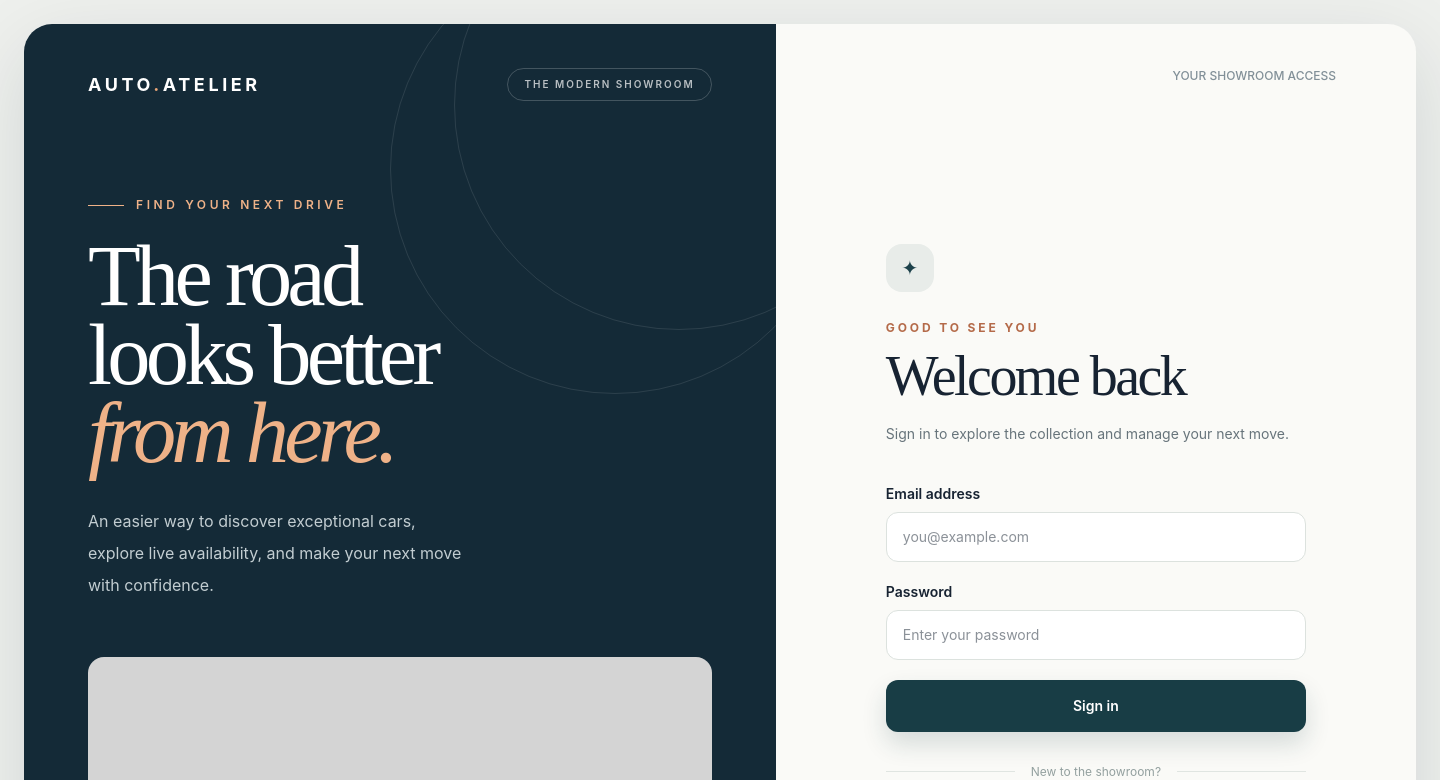
it: authentication API › signs in and opens the inventory
In the field labelled "Email address": coordinates (1096, 537) 886,512 -> 1306,562, type "driver@example.com"
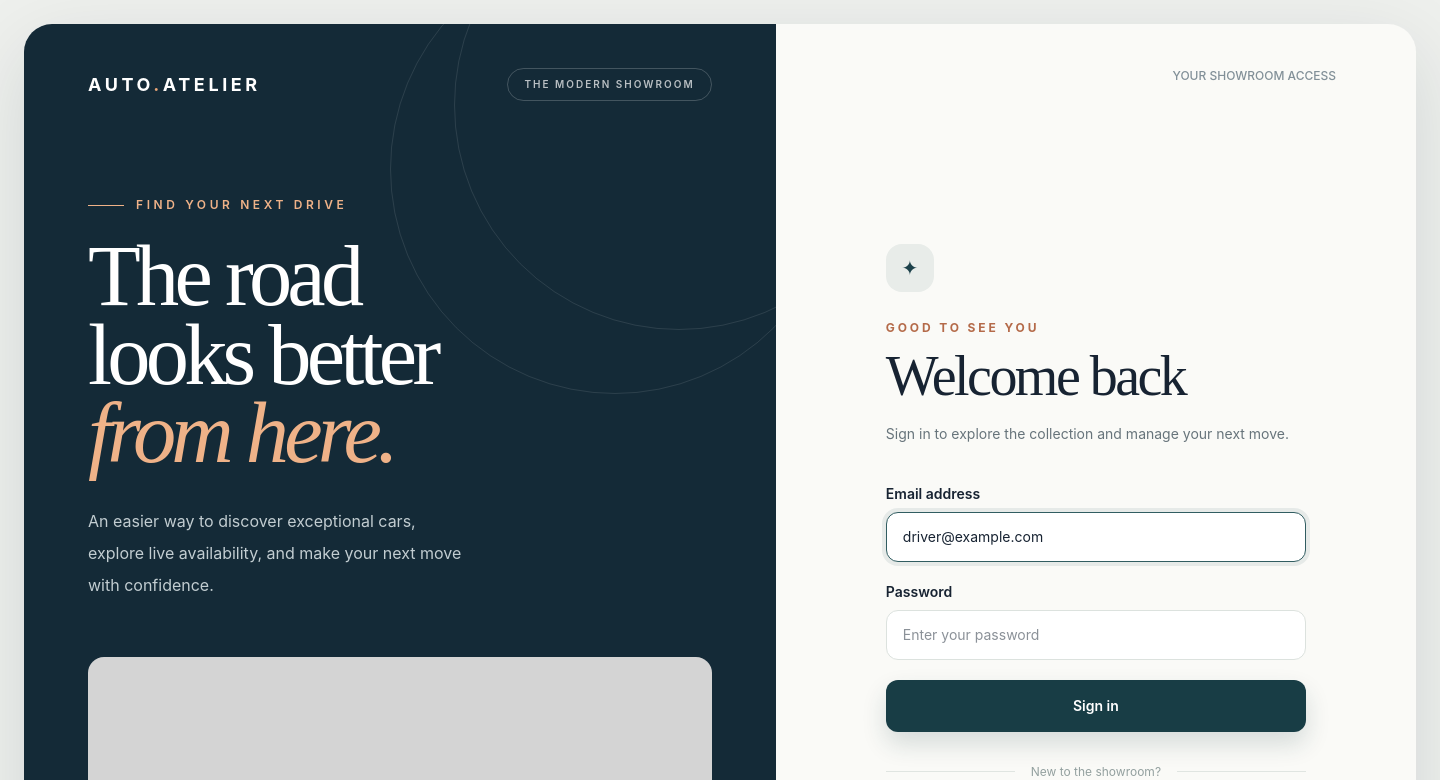
In the password field labelled "Password": coordinates (1096, 635) 886,610 -> 1306,660, type "SecurePass123!"
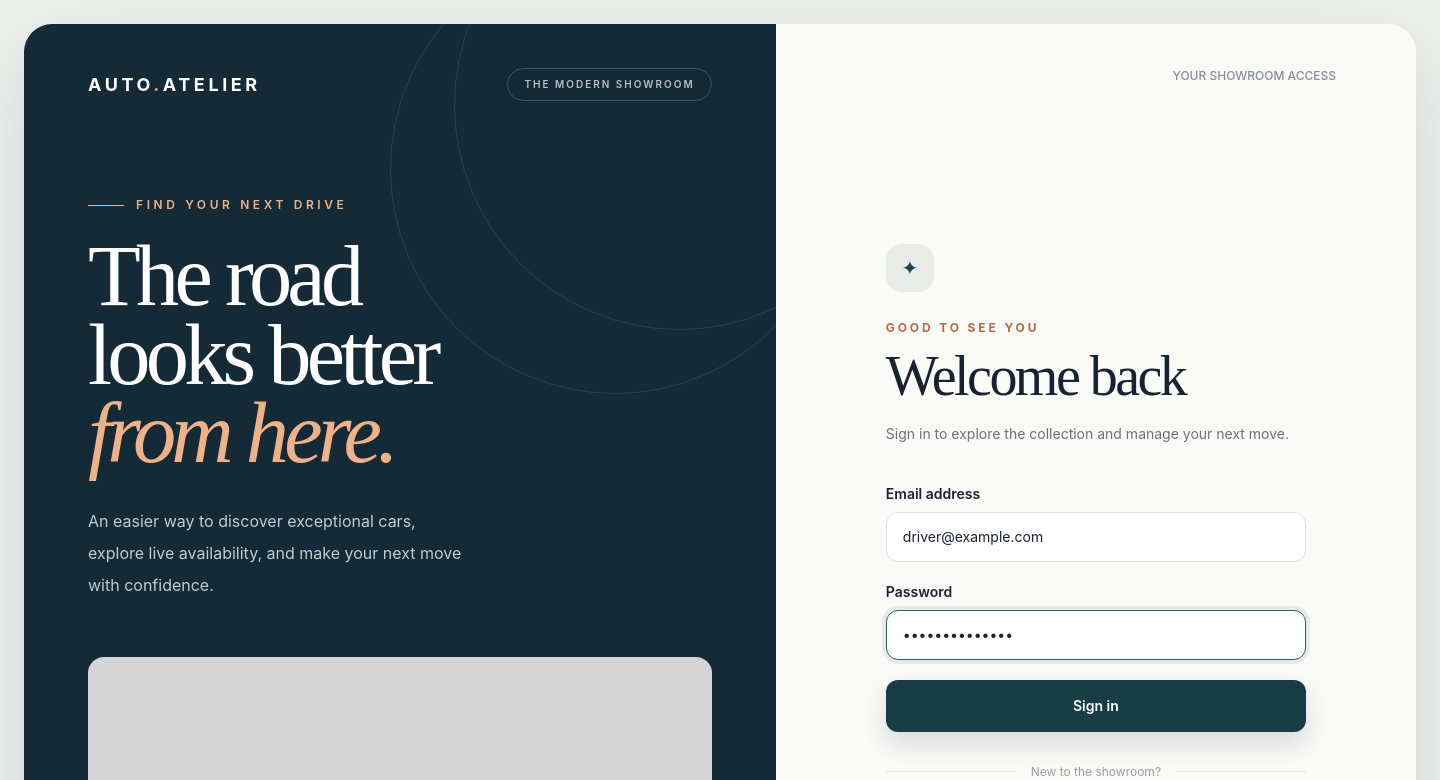
Click the button "Sign in": coordinates (1096, 706) 886,680 -> 1306,732
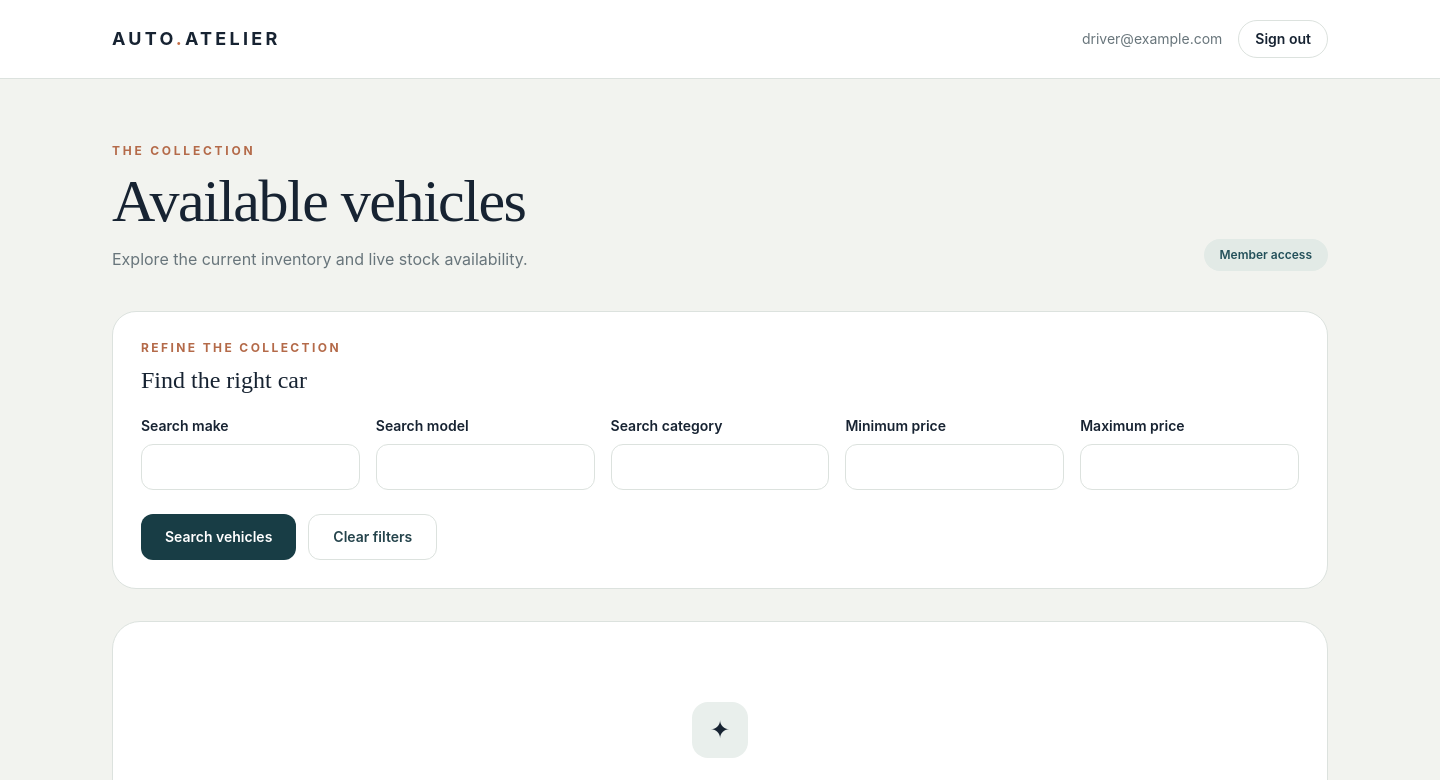
Now the heading "Available vehicles" is shown, box 112,171 -> 528,231
